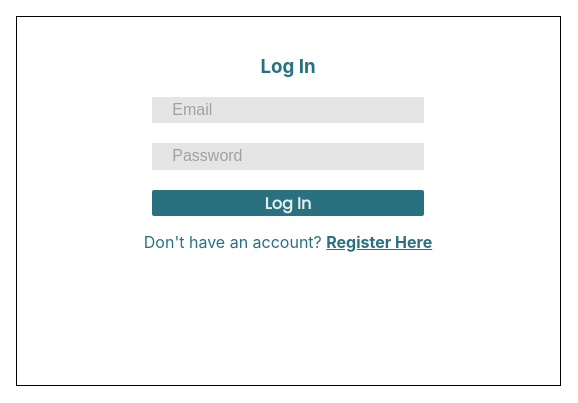
Test: Register should start with empty values
Click the text "Register Here".
click(379, 242)  # box [326,232,432,252]
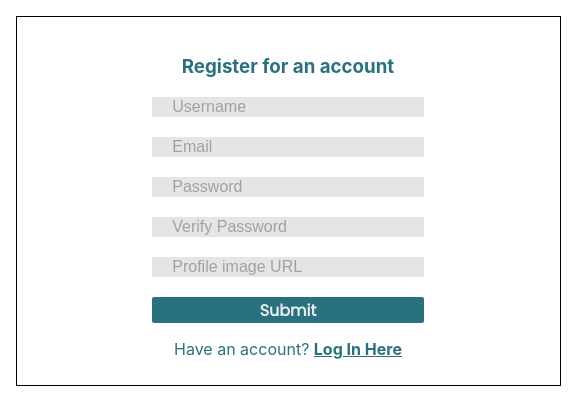
Check: the password field named "verPassword" is shown, box [152,217,424,237]
Check: the field named "picture" is shown, box [152,257,424,277]
Check: the button "Submit" is shown, box [152,297,424,323]
